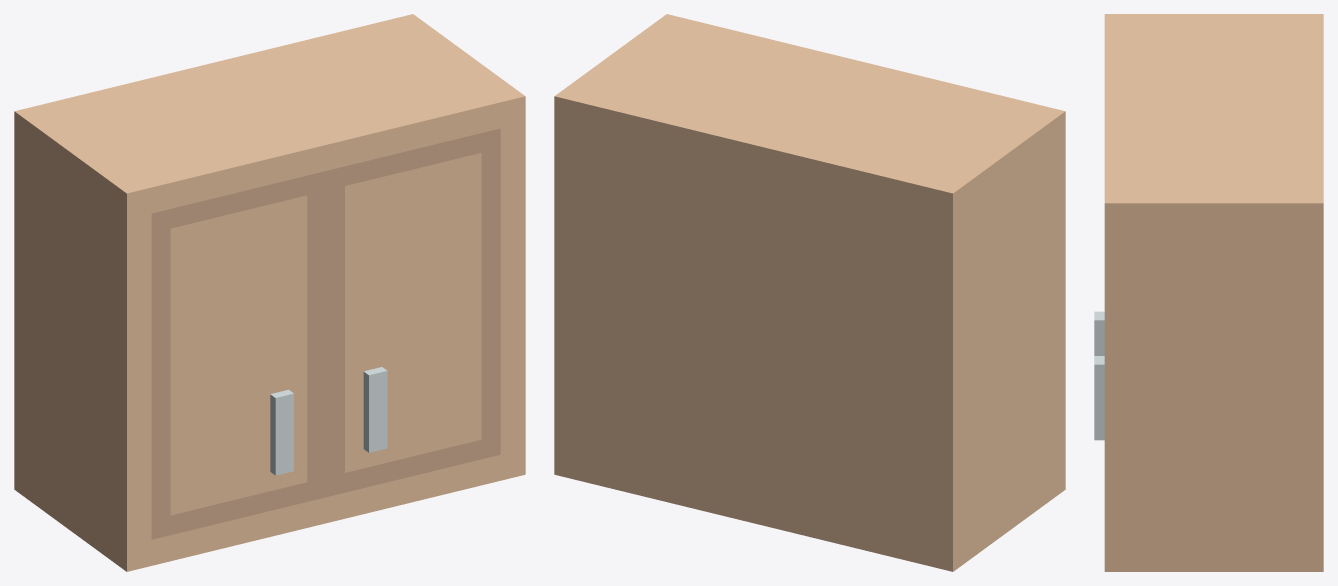
File: kitchenCabinetUpperDouble.glb
3 renders of one model, left to right at view 1: azimuth 30°, elevation 25°; view 2: azimuth 150°, elevation 25°; view 3: azimuth 270°, elevation 25°, orthographic. The views are drawn at different scales.
Parts seen in each view (by area): view 1: kitchenCabinetUpperDouble(Clone), doorLeft, doorRight; view 2: kitchenCabinetUpperDouble(Clone); view 3: kitchenCabinetUpperDouble(Clone), doorRight, doorLeft.
Part boxes in pixels (bbox=[...]): kitchenCabinetUpperDouble(Clone): bbox=[14, 14, 525, 571]; doorLeft: bbox=[151, 171, 326, 539]; doorRight: bbox=[326, 128, 500, 496]; kitchenCabinetUpperDouble(Clone): bbox=[554, 14, 1065, 571]; kitchenCabinetUpperDouble(Clone): bbox=[1104, 14, 1323, 571]; doorRight: bbox=[1094, 356, 1104, 440]; doorLeft: bbox=[1094, 311, 1104, 355].
Bounding box in the file's own units: 0.8729 × 0.7917 × 0.4466.
3 materials, 3 textured.
